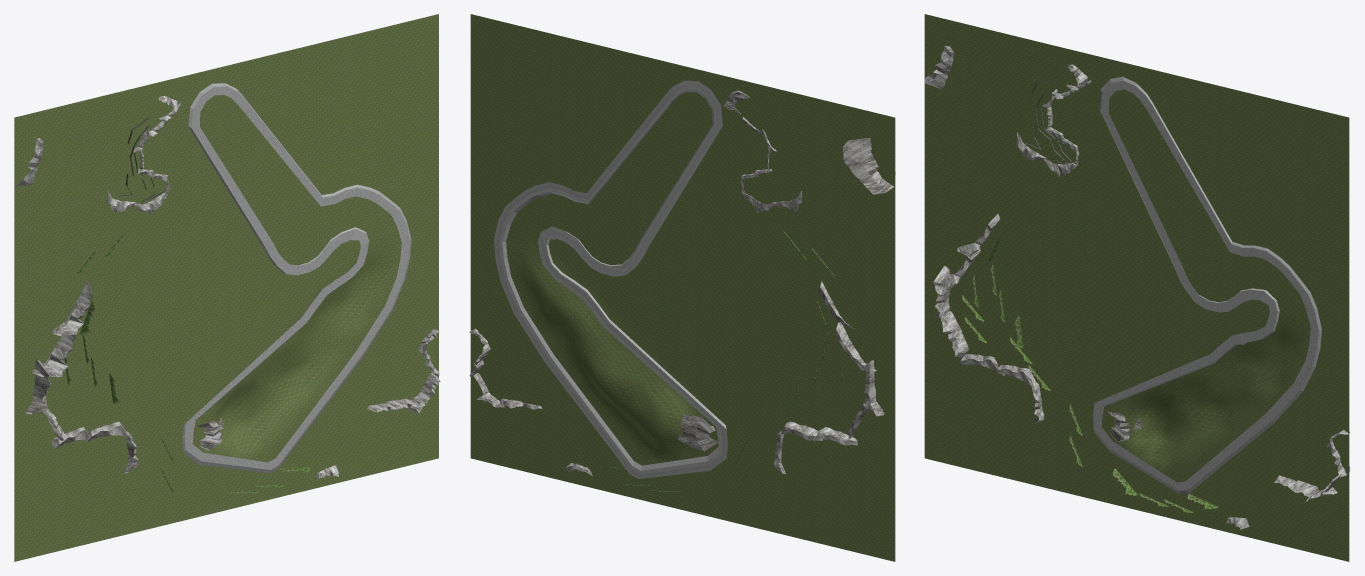
The model's file is updatedworld.gltf.
3 views of the same model, side by side, from view 1: azimuth 30°, elevation 25°; view 2: azimuth 150°, elevation 25°; view 3: azimuth 330°, elevation 25° (orthographic).
Visible parts, largest first — view 1: Ground, Road, Rock_Cliff.002, Rock_Cliff.001, Rock_Cliff, Mesh_Tree_Group2.001; view 2: Ground, Road, Rock_Cliff.002, Rock_Cliff, Rock_Cliff.001; view 3: Ground, Road, Rock_Cliff.002, Rock_Cliff, Rock_Cliff.001, Mesh_Tree_Group2.001, Mesh_Tree_Group2.
Boxes of the visible parts, left/top/right/bottom form: Ground: left=14, top=14, right=438, bottom=561; Road: left=182, top=83, right=411, bottom=473; Rock_Cliff.002: left=15, top=138, right=223, bottom=473; Rock_Cliff.001: left=316, top=329, right=440, bottom=479; Rock_Cliff: left=106, top=96, right=181, bottom=214; Mesh_Tree_Group2.001: left=64, top=231, right=130, bottom=425; Ground: left=470, top=14, right=895, bottom=561; Road: left=494, top=80, right=727, bottom=478; Rock_Cliff.002: left=678, top=138, right=895, bottom=474; Rock_Cliff: left=724, top=90, right=802, bottom=212; Rock_Cliff.001: left=469, top=328, right=592, bottom=476; Ground: left=924, top=14, right=1349, bottom=561; Road: left=1093, top=76, right=1321, bottom=494; Rock_Cliff.002: left=924, top=45, right=1142, bottom=441; Rock_Cliff: left=1016, top=64, right=1091, bottom=176; Rock_Cliff.001: left=1226, top=430, right=1350, bottom=529; Mesh_Tree_Group2.001: left=962, top=235, right=1050, bottom=391; Mesh_Tree_Group2: left=1069, top=404, right=1218, bottom=512.
Size of the model in its own units: 1626 by 1626 by 140.
Materials: 5 (5 with a texture image).
